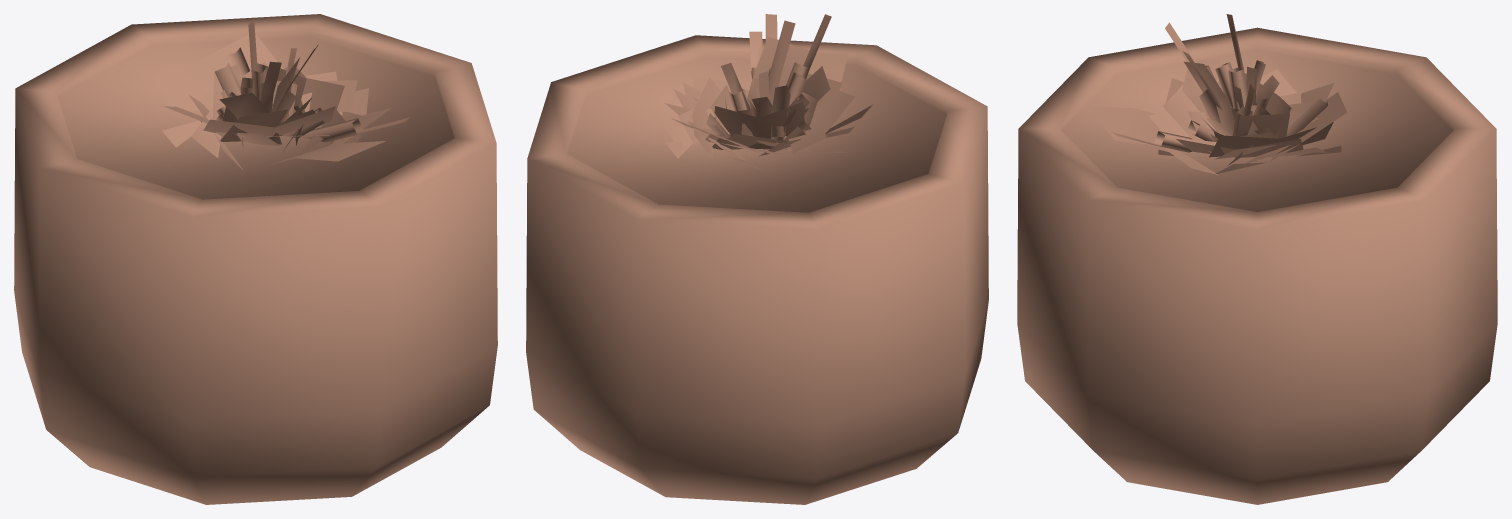
The model's file is pot1.glb.
3 renders of one model, left to right at view 1: azimuth 30°, elevation 25°; view 2: azimuth 150°, elevation 25°; view 3: azimuth 270°, elevation 25°, orthographic. The views are drawn at different scales.
Visible parts, largest first — view 1: Primrose.005; view 2: Primrose.005; view 3: Primrose.005.
Part boxes in pixels (x1,y1,x2,y2): Primrose.005: [14, 14, 497, 504]; Primrose.005: [526, 14, 988, 504]; Primrose.005: [1017, 14, 1497, 504].
Bounding box in the file's own units: 0.5061 × 0.4707 × 0.5061.
